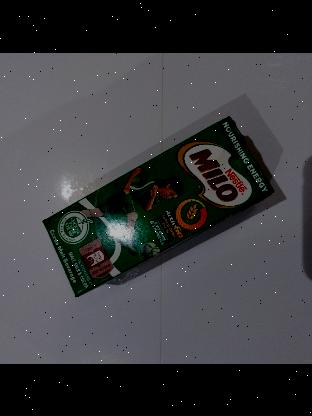Others: (43, 116, 273, 296)
